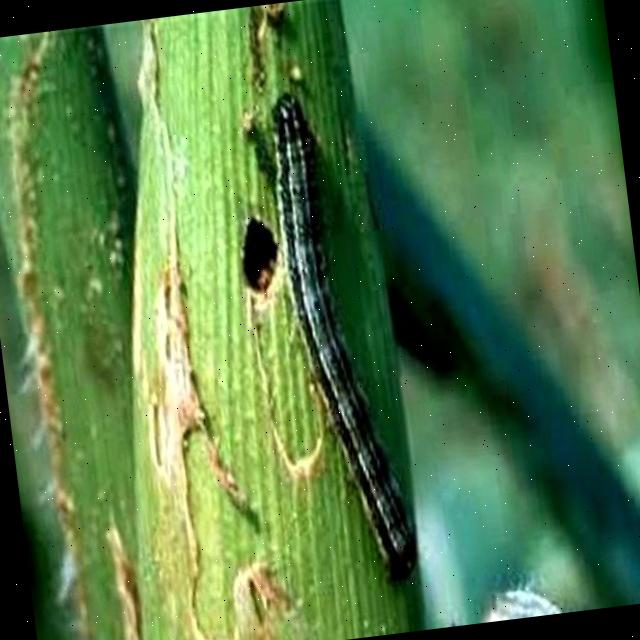worm: (264, 81, 426, 593)
